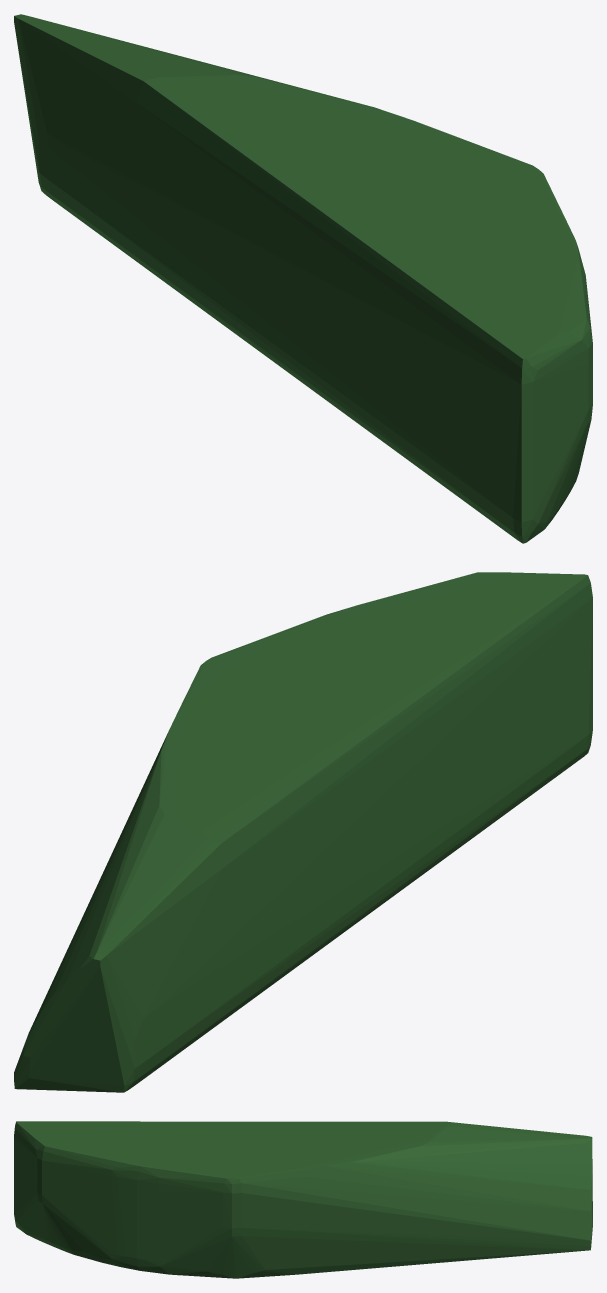
File: right-hip-yaw-0_part_19.obj
3 renders of one model, top to bottom at view 1: azimuth 30°, elevation 25°; view 2: azimuth 150°, elevation 25°; view 3: azimuth 270°, elevation 25°, orthographic. The views are drawn at different scales.
Size of the model in its own units: 0.0274 by 0.0221 by 0.1098.
